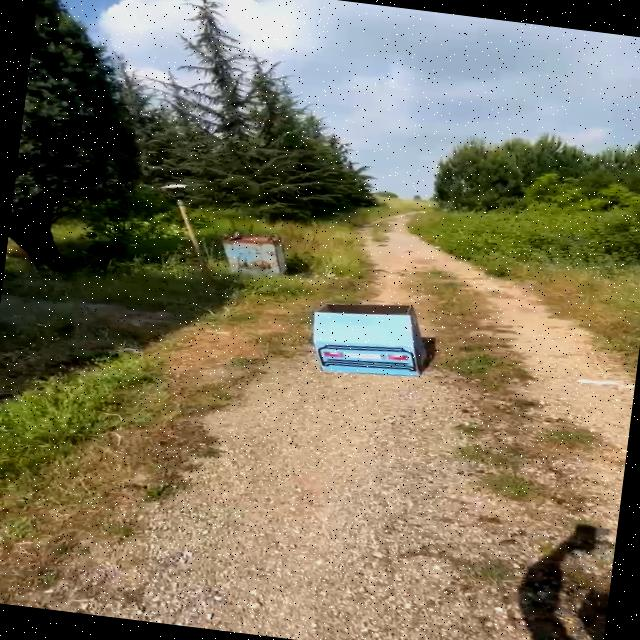blue_car: (285, 278, 456, 394)
